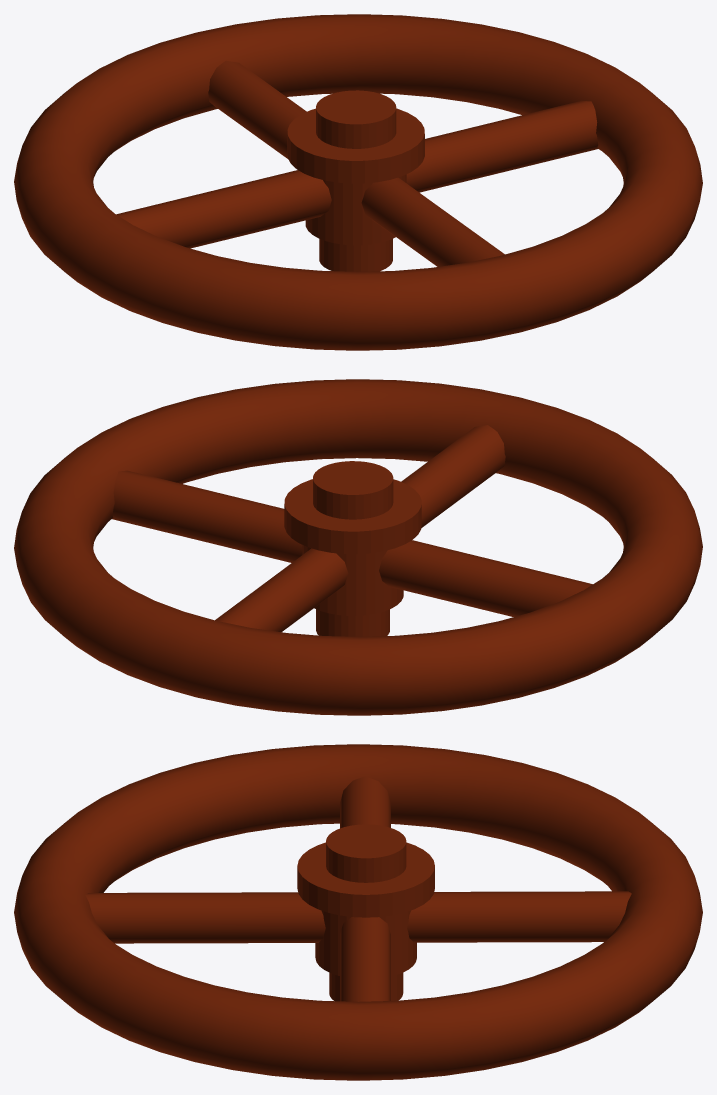
Rendered from valve.fbx.
The picture shows the model from 3 angles, top to bottom: view 1: azimuth 30°, elevation 25°; view 2: azimuth 150°, elevation 25°; view 3: azimuth 270°, elevation 25°; orthographic projection.
Parts seen in each view (by area): view 1: valve; view 2: valve; view 3: valve.
Part boxes in pixels (x1=…): valve: x1=14, y1=14, x2=702, y2=350; valve: x1=14, y1=379, x2=702, y2=715; valve: x1=14, y1=744, x2=702, y2=1080.
Size of the model in its own units: 226 by 54.96 by 226.
